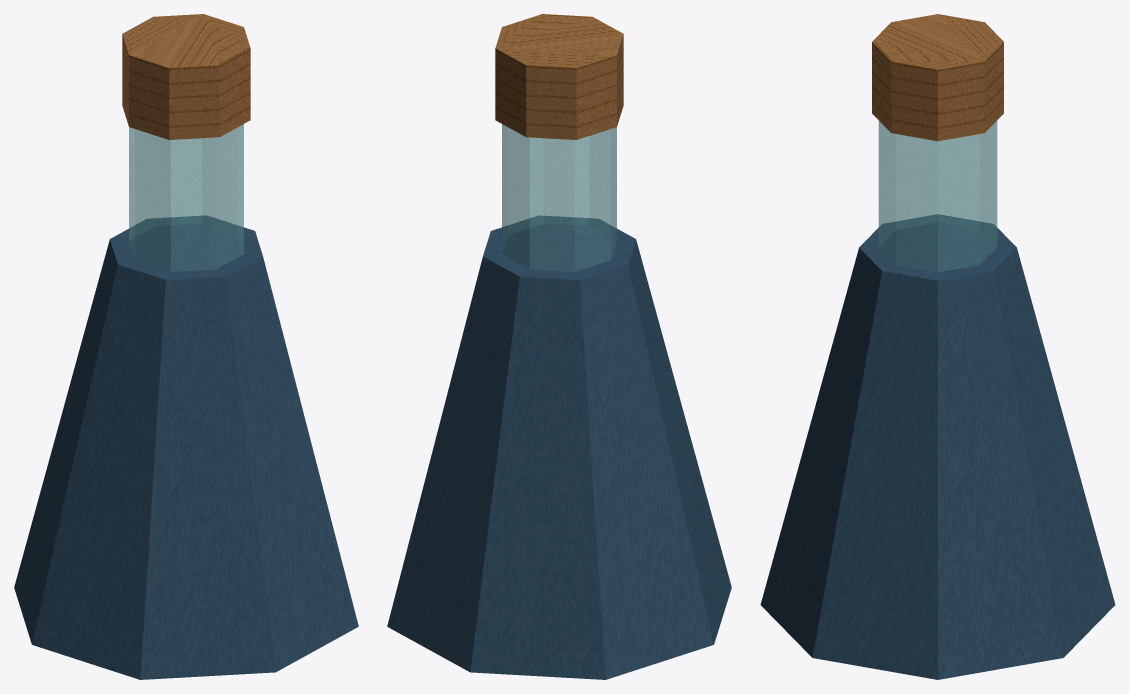
The model's file is potion_3.glb.
3 renders of one model, left to right at view 1: azimuth 30°, elevation 25°; view 2: azimuth 150°, elevation 25°; view 3: azimuth 270°, elevation 25°, orthographic.
Parts seen in each view (by area): view 1: bottle, neck, cork; view 2: bottle, neck, cork; view 3: bottle, neck, cork.
Boxes of the visible parts, x1=… form: bottle: x1=14, y1=215, x2=358, y2=679; neck: x1=129, y1=124, x2=243, y2=271; cork: x1=122, y1=14, x2=250, y2=139; bottle: x1=387, y1=215, x2=731, y2=679; neck: x1=502, y1=124, x2=616, y2=271; cork: x1=495, y1=14, x2=623, y2=139; bottle: x1=760, y1=214, x2=1115, y2=679; neck: x1=878, y1=121, x2=997, y2=271; cork: x1=872, y1=14, x2=1003, y2=141.
Bounding box in the file's own units: 0.36 × 0.63 × 0.36.
2 materials, 2 textured.
